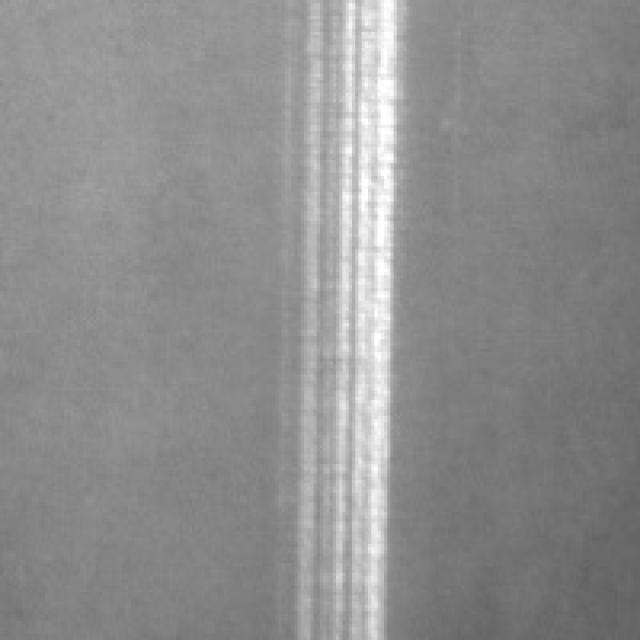scratches: (272, 0, 400, 634)
